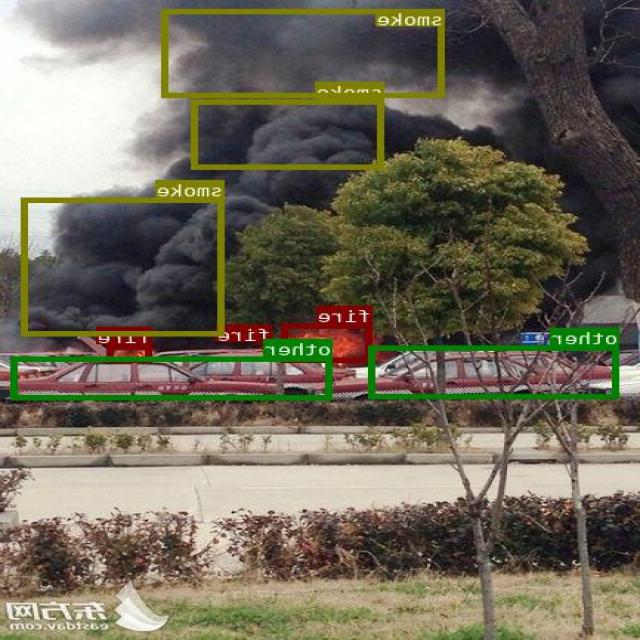fire: (284, 322, 374, 362), (109, 344, 153, 362), (264, 342, 273, 348)
other: (13, 356, 334, 399), (370, 345, 620, 398)
smoke: (23, 196, 226, 334), (163, 8, 446, 96), (194, 99, 385, 168)
